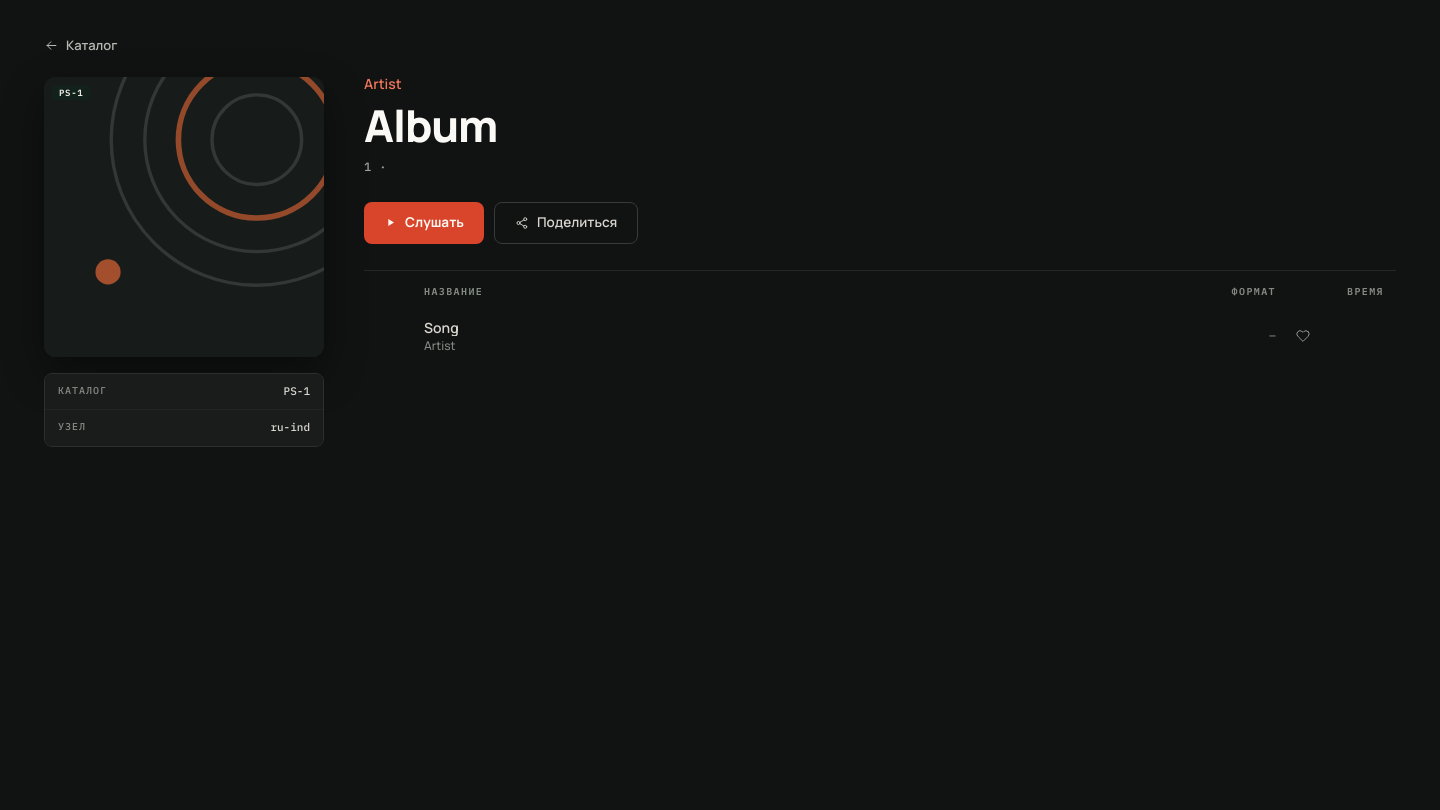
Scenario: shares the release on the node from ?host=, not the active one
Click the button "Поделиться". click: coordinates (566, 223)
box: [494,202,638,244]
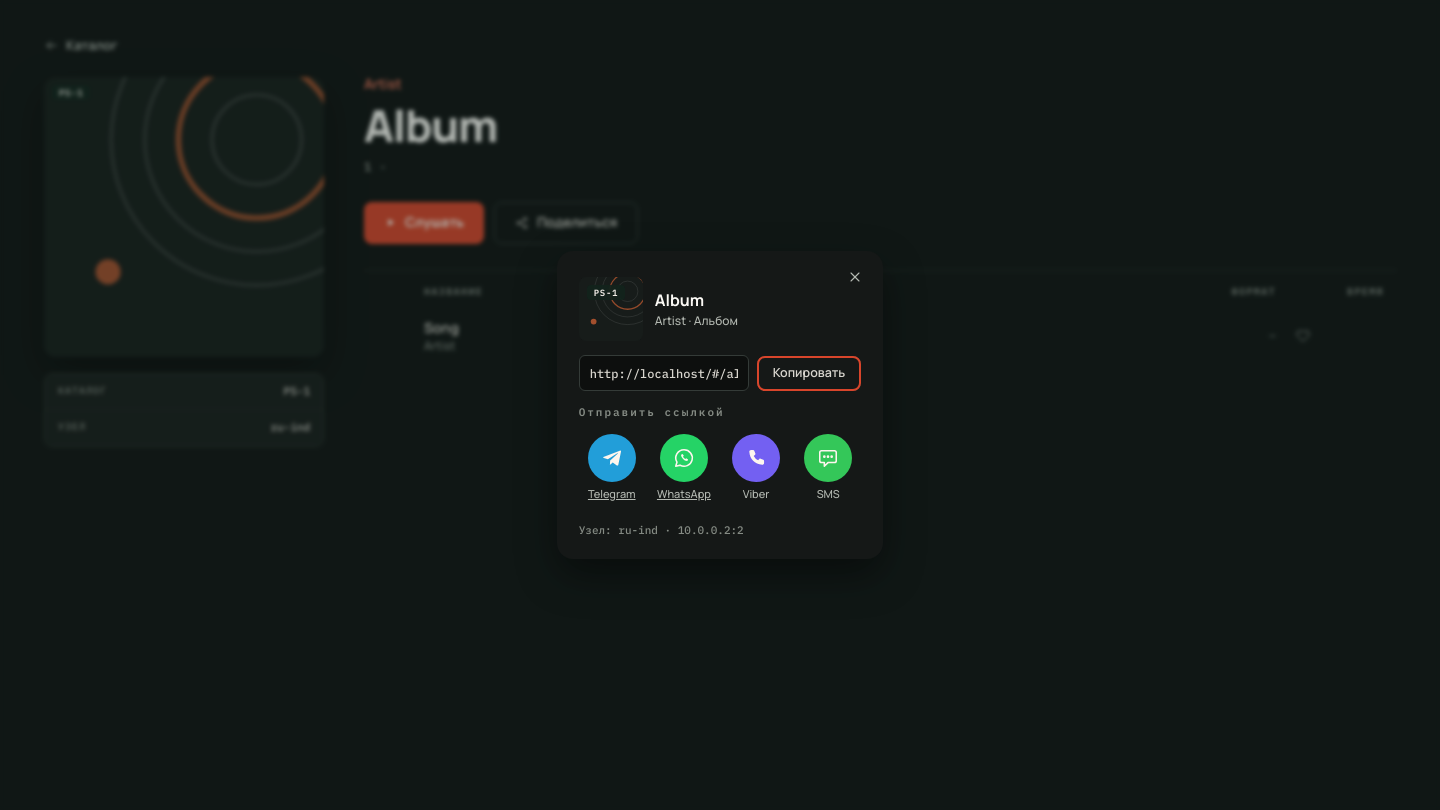
Now the text "Узел: ru-ind · 10.0.0.2:2" is shown, box [579,523,744,537]
